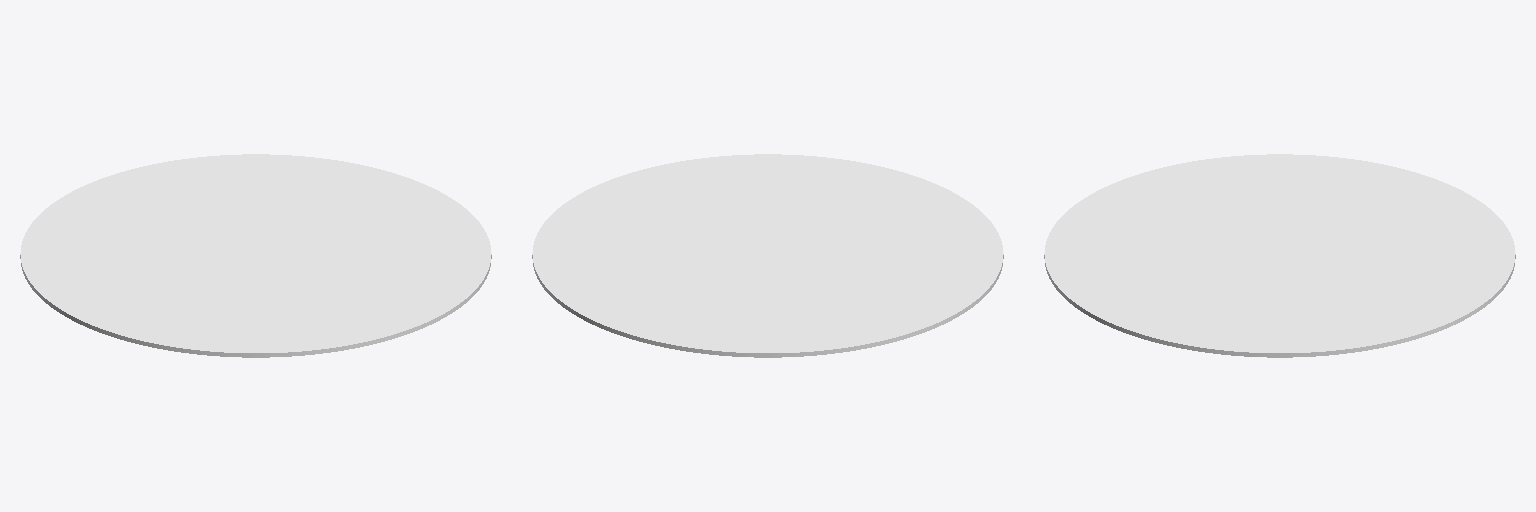
URDF robot description (cube):
<?xml version="1.0" ?>
<robot name="cube">
  <link name="baseLink">
    <contact>
      <lateral_friction value="1.0"/>
      <rolling_friction value="0.0"/>
      <contact_cfm value="0.0"/>
      <contact_erp value="1.0"/>
    </contact>
    <inertial>
      <origin rpy="0 0 0" xyz="0 0 0"/>
       <mass value="1.0"/>
       <inertia ixx="1" ixy="0" ixz="0" iyy="1" iyz="0" izz="1"/>
    </inertial>
    <visual>
      <origin rpy="-1.57079632679 0 0" xyz="0 0 0"/>
      <geometry>
				<mesh filename="table2.obj" scale="1 1 1"/>
      </geometry>
       <material name="white">
        <color rgba="1 1 1 1"/>
      </material>
    </visual>
    <collision>
      <origin rpy="0 0 0" xyz="0 0 0"/>
      <geometry>
	 	<cylinder length="0.01" radius="0.5"/>
      </geometry>
    </collision>
  </link>
</robot>


--- What the picture shows (computed from the rendered views, not written in the file) ---
The picture shows the robot from 3 angles, left to right: view 1: azimuth 30°, elevation 25°; view 2: azimuth 150°, elevation 25°; view 3: azimuth 270°, elevation 25°; orthographic projection.
Robot: cube — 1 links, 0 joints (none); root link baseLink; default pose: every joint at zero.
Visible links, largest first — view 1: baseLink; view 2: baseLink; view 3: baseLink.
Link boxes in pixels (bbox=[...]): baseLink: bbox=[20, 154, 491, 357]; baseLink: bbox=[532, 154, 1003, 357]; baseLink: bbox=[1044, 154, 1515, 357].
Size in the robot's own frame: 1 by 1 by 0.01 metres.
Meshes: 1 distinct files referenced, 1 mesh visuals loaded (1 OBJ).